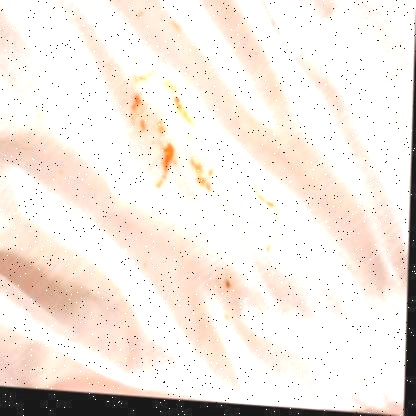kimchi: (260, 213, 285, 258), (153, 145, 176, 191), (187, 160, 216, 196), (243, 185, 282, 208), (132, 73, 179, 88), (125, 91, 146, 120), (178, 115, 206, 130), (165, 19, 183, 36), (134, 118, 149, 136), (173, 96, 191, 111), (221, 275, 237, 290), (127, 53, 141, 68), (157, 115, 168, 134), (130, 10, 145, 23), (218, 310, 231, 324), (38, 110, 47, 120)
